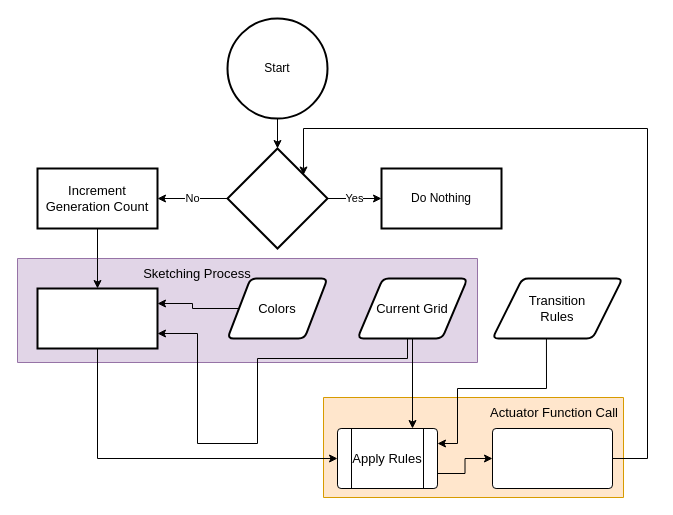
The diagram is 673 pixels wide and 515 high, and some of its shapes have lost their labels. Each missing label, with the box of its shape:
paused?: (226, 147, 328, 249)
Save New Grid to Current Grid: (492, 428, 612, 488)
Sketch Grid: (36, 287, 158, 349)
